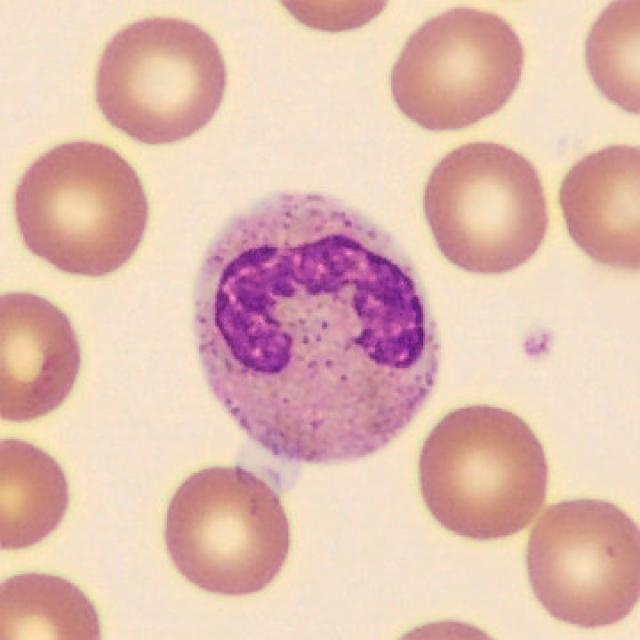Neutrofilo segmentado: (194, 192, 437, 466)
